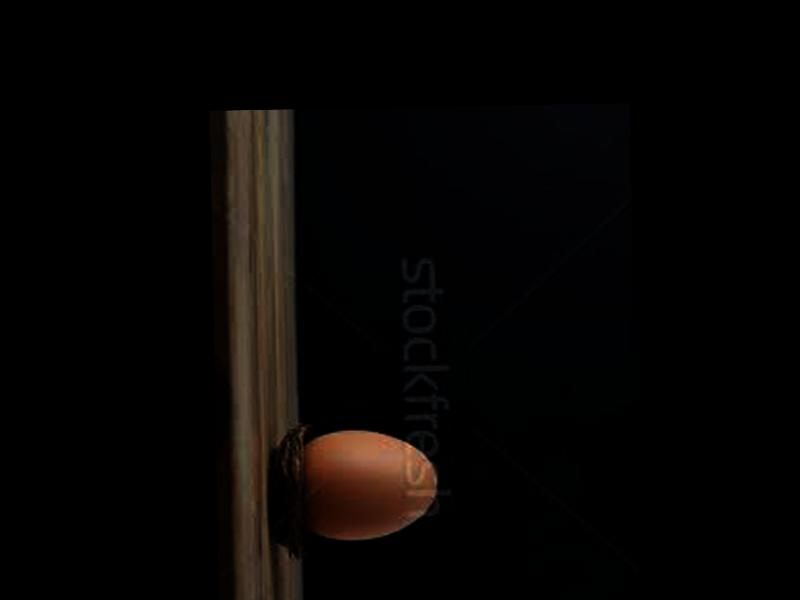Eggs: (300, 430, 437, 543)
